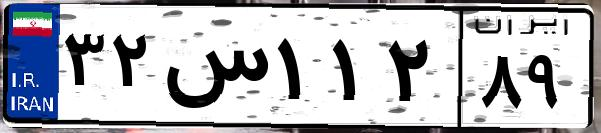1: (270, 28, 330, 110), (330, 28, 385, 110)
2: (385, 28, 445, 110), (110, 28, 158, 98)
3: (57, 26, 110, 100)
8: (475, 38, 525, 113)
9: (525, 38, 570, 115)
س: (158, 20, 270, 120)
